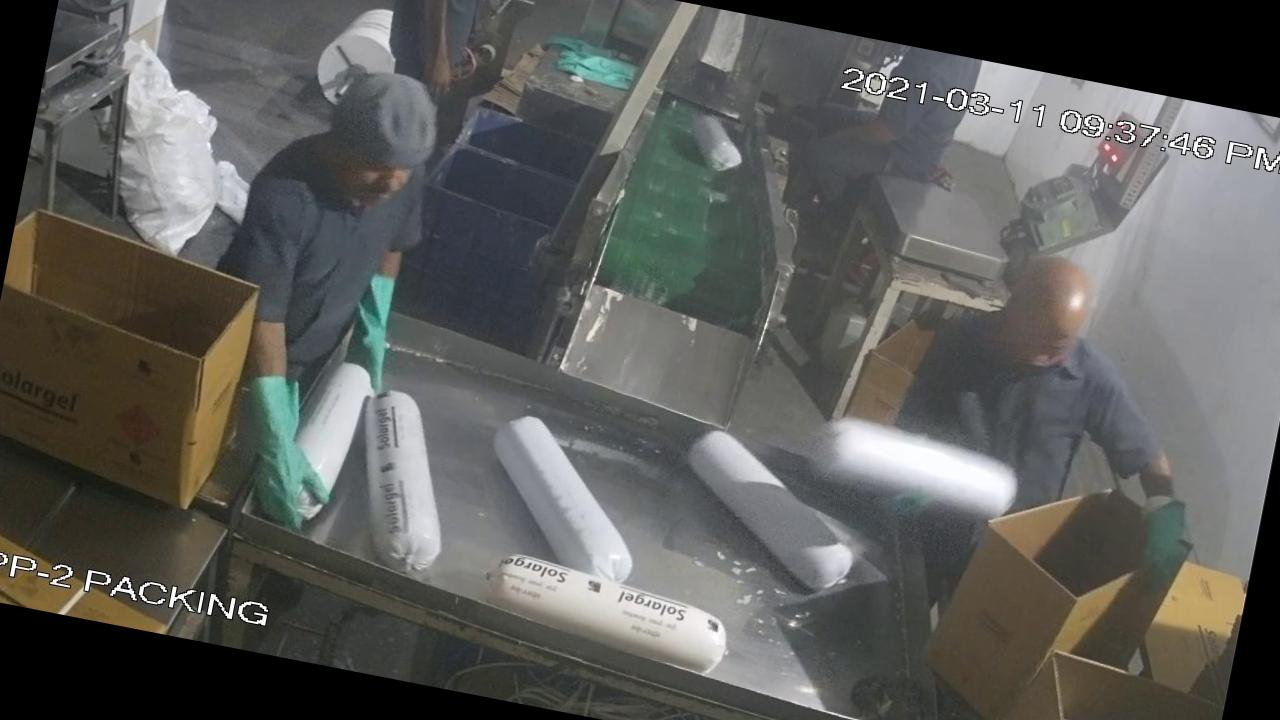Gloves: (200, 358, 358, 548), (315, 250, 422, 407), (1115, 470, 1211, 614)
No-gloves: (391, 0, 489, 110)
